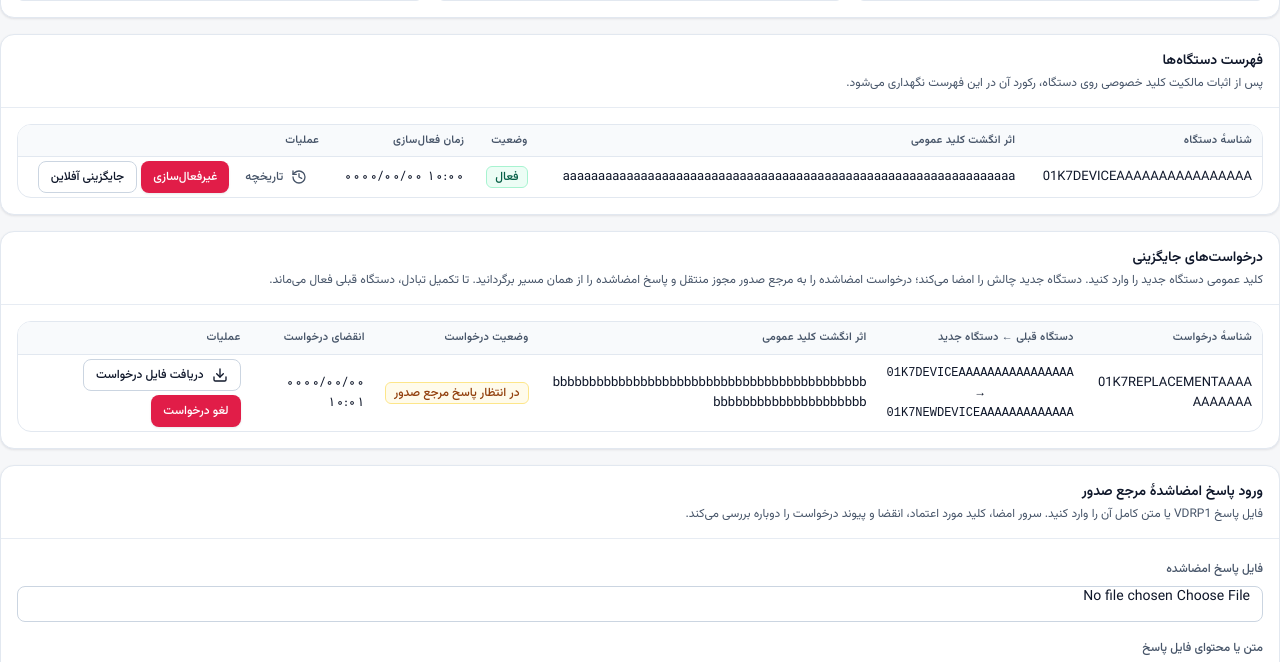
Persian client-device administrator surface › makes cancellation explicit and terminal for a pending offline request
(page scrolled)
Check: the text "01K7DEVICEAAAAAAAAAAAAAAAA" next to "01K7REPLACEMENTAAAAAAAAAAA" is shown, box x1=886 y1=366 x2=1074 y2=380
Check: the text "01K7NEWDEVICEAAAAAAAAAAAAA" is shown, box x1=886 y1=404 x2=1074 y2=420
Click the button "لغو درخواست" at (196,410), box x1=151 y1=394 x2=241 y2=426
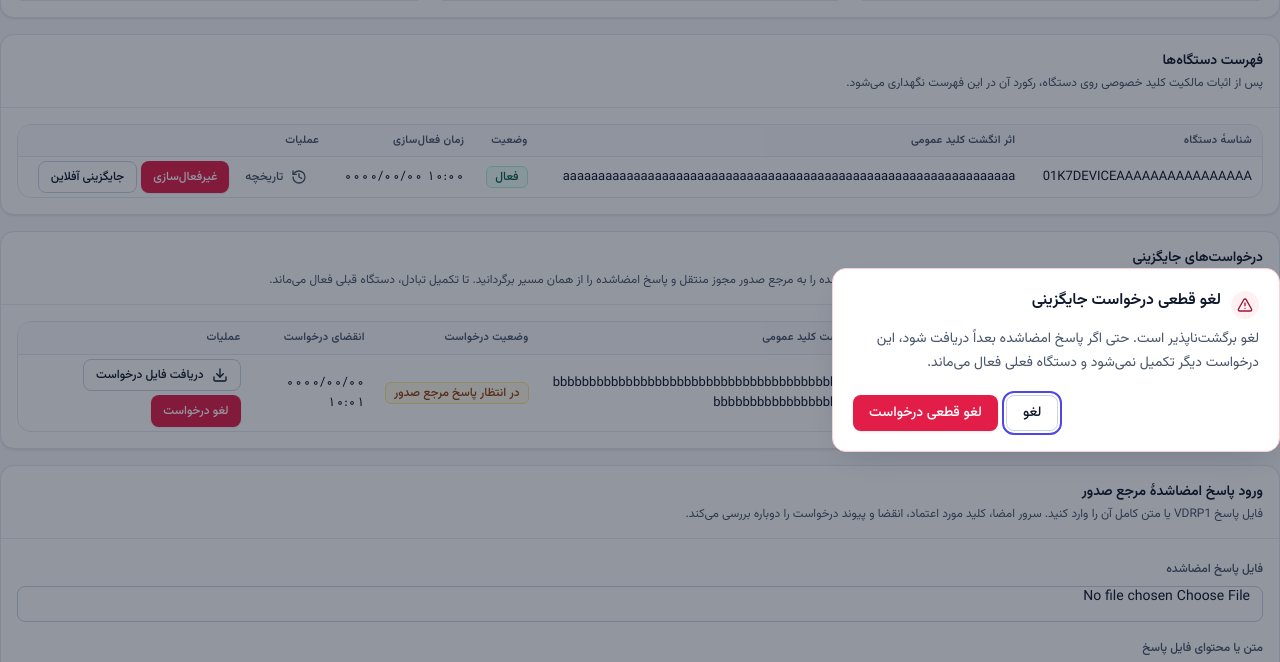
Check: the text "لغو برگشت‌ناپذیر است. حتی اگر پاسخ امضاشده بعداً دریافت شود، این درخواست دیگر تکمیل نمی‌شود و دستگاه فعلی فعال می‌ماند." is shown, box x1=877 y1=328 x2=1259 y2=374
Click the button "لغو قطعی درخواست" at (925,413), box x1=853 y1=395 x2=998 y2=431
(page scrolled)
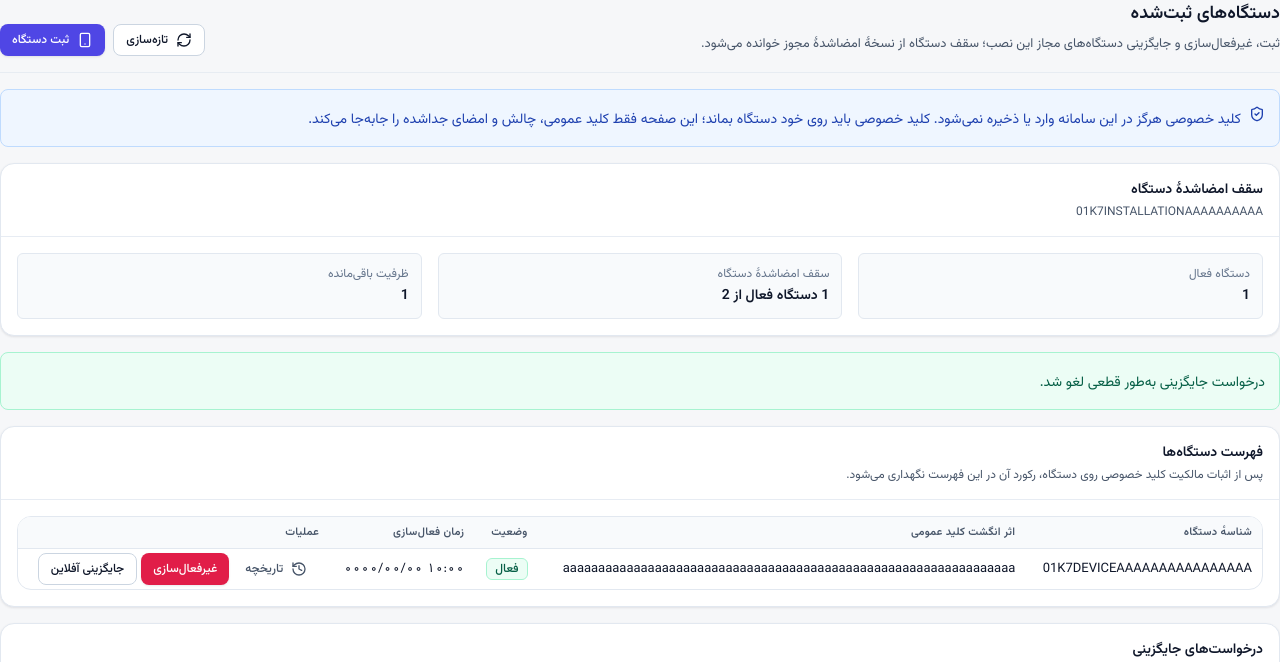
Check: the text "درخواست جایگزینی به‌طور قطعی لغو شد." is shown, box x1=1040 y1=372 x2=1265 y2=394
